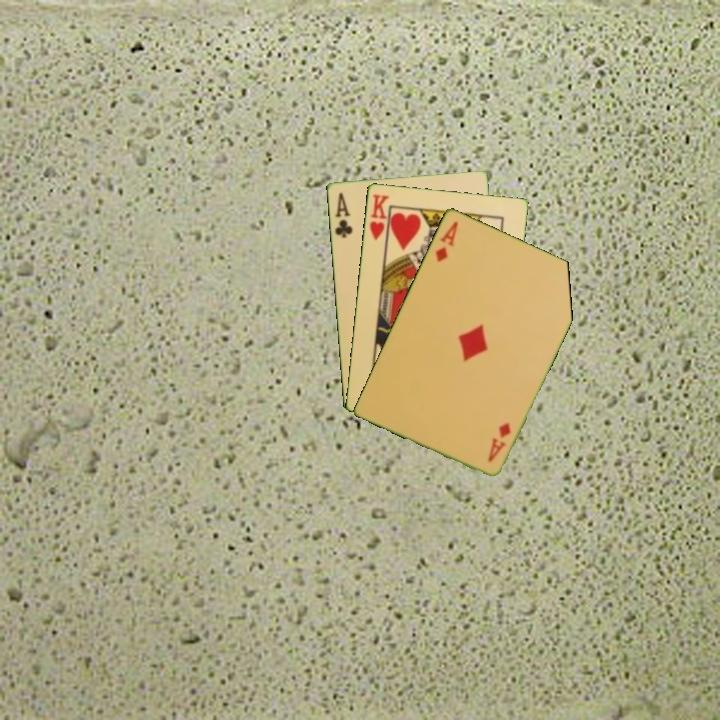Ac: (331, 188, 355, 240)
Ad: (431, 217, 461, 265), (484, 418, 514, 465)
Kh: (366, 190, 392, 247)
